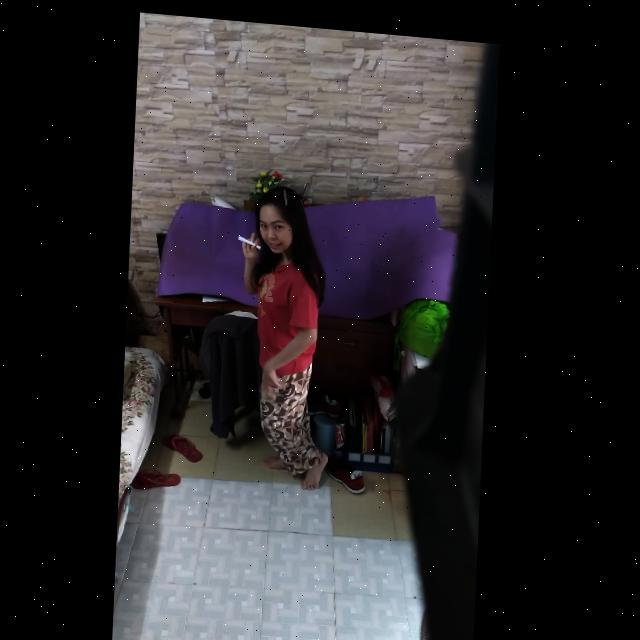cigarette: (240, 232, 263, 244)
